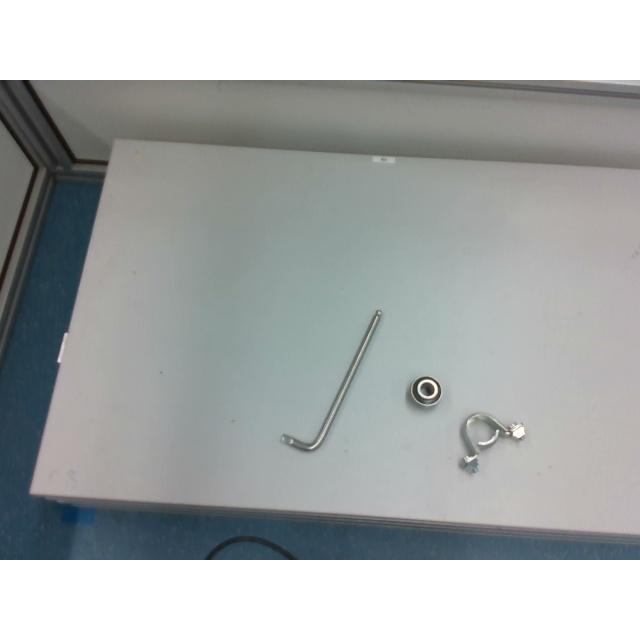AllenKey: (279, 309, 383, 451)
Bearing2: (408, 376, 440, 404)
Housing: (459, 412, 523, 468)
